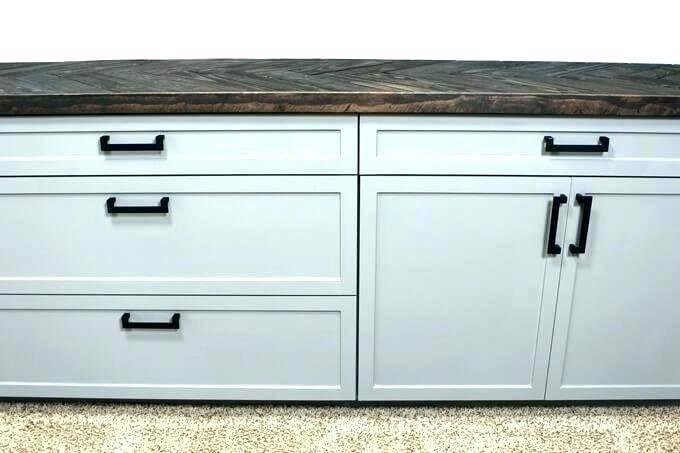cabinet_door: (363, 184, 560, 398), (0, 185, 355, 293), (0, 301, 354, 388), (562, 187, 679, 396), (0, 119, 352, 172), (359, 119, 676, 172)
handle: (564, 192, 597, 258), (99, 131, 168, 159), (105, 192, 174, 219), (538, 195, 567, 259), (542, 133, 612, 159), (118, 309, 184, 334)
